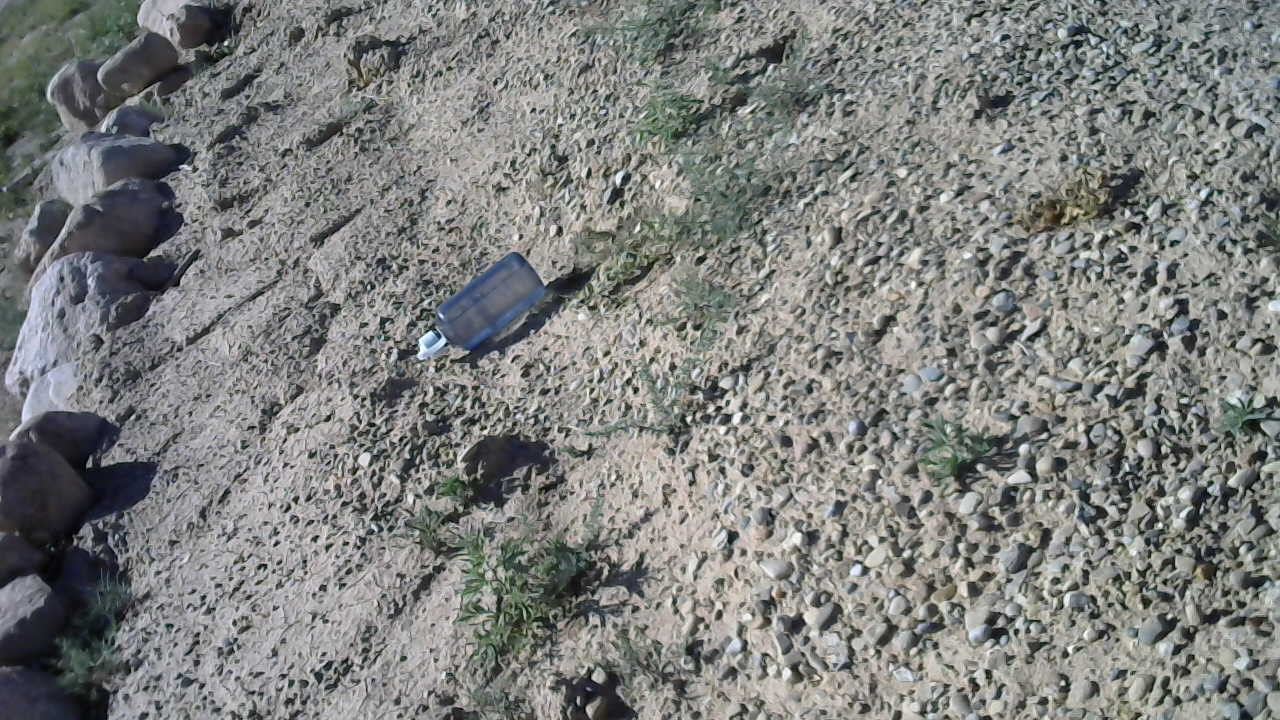bottle: (413, 247, 549, 373)
